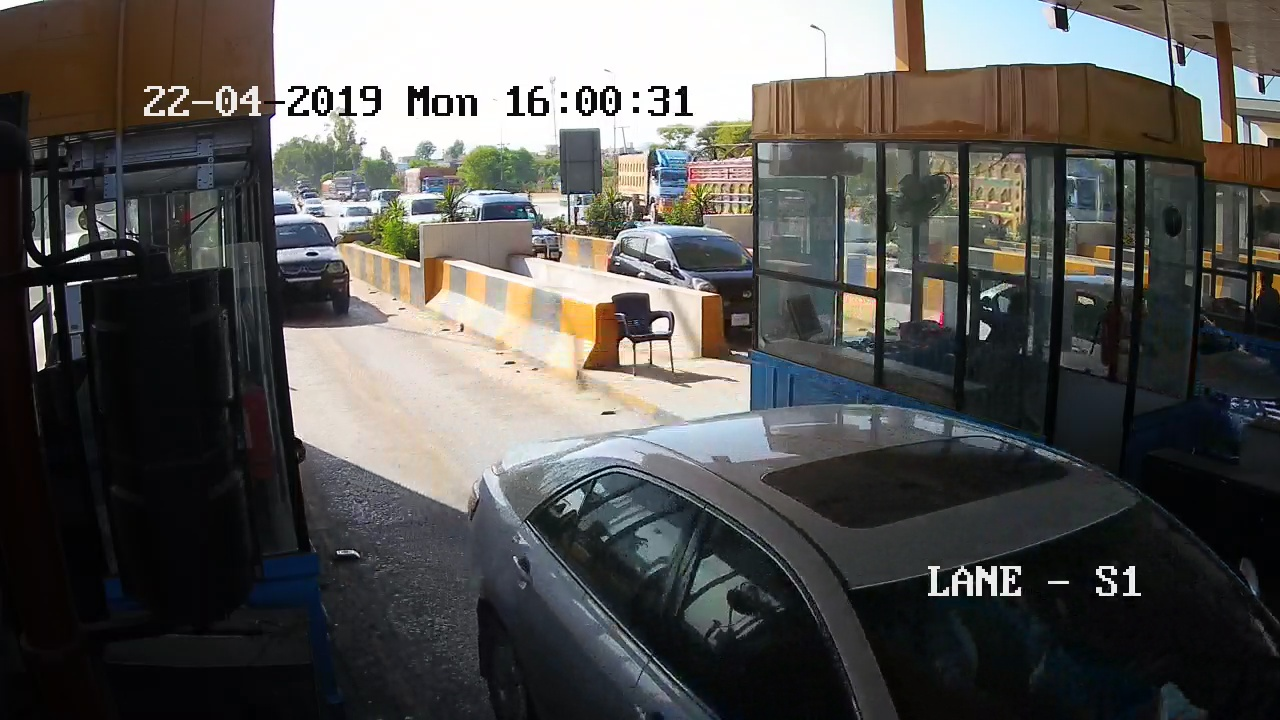car: (458, 428, 1280, 714), (262, 215, 366, 339)
